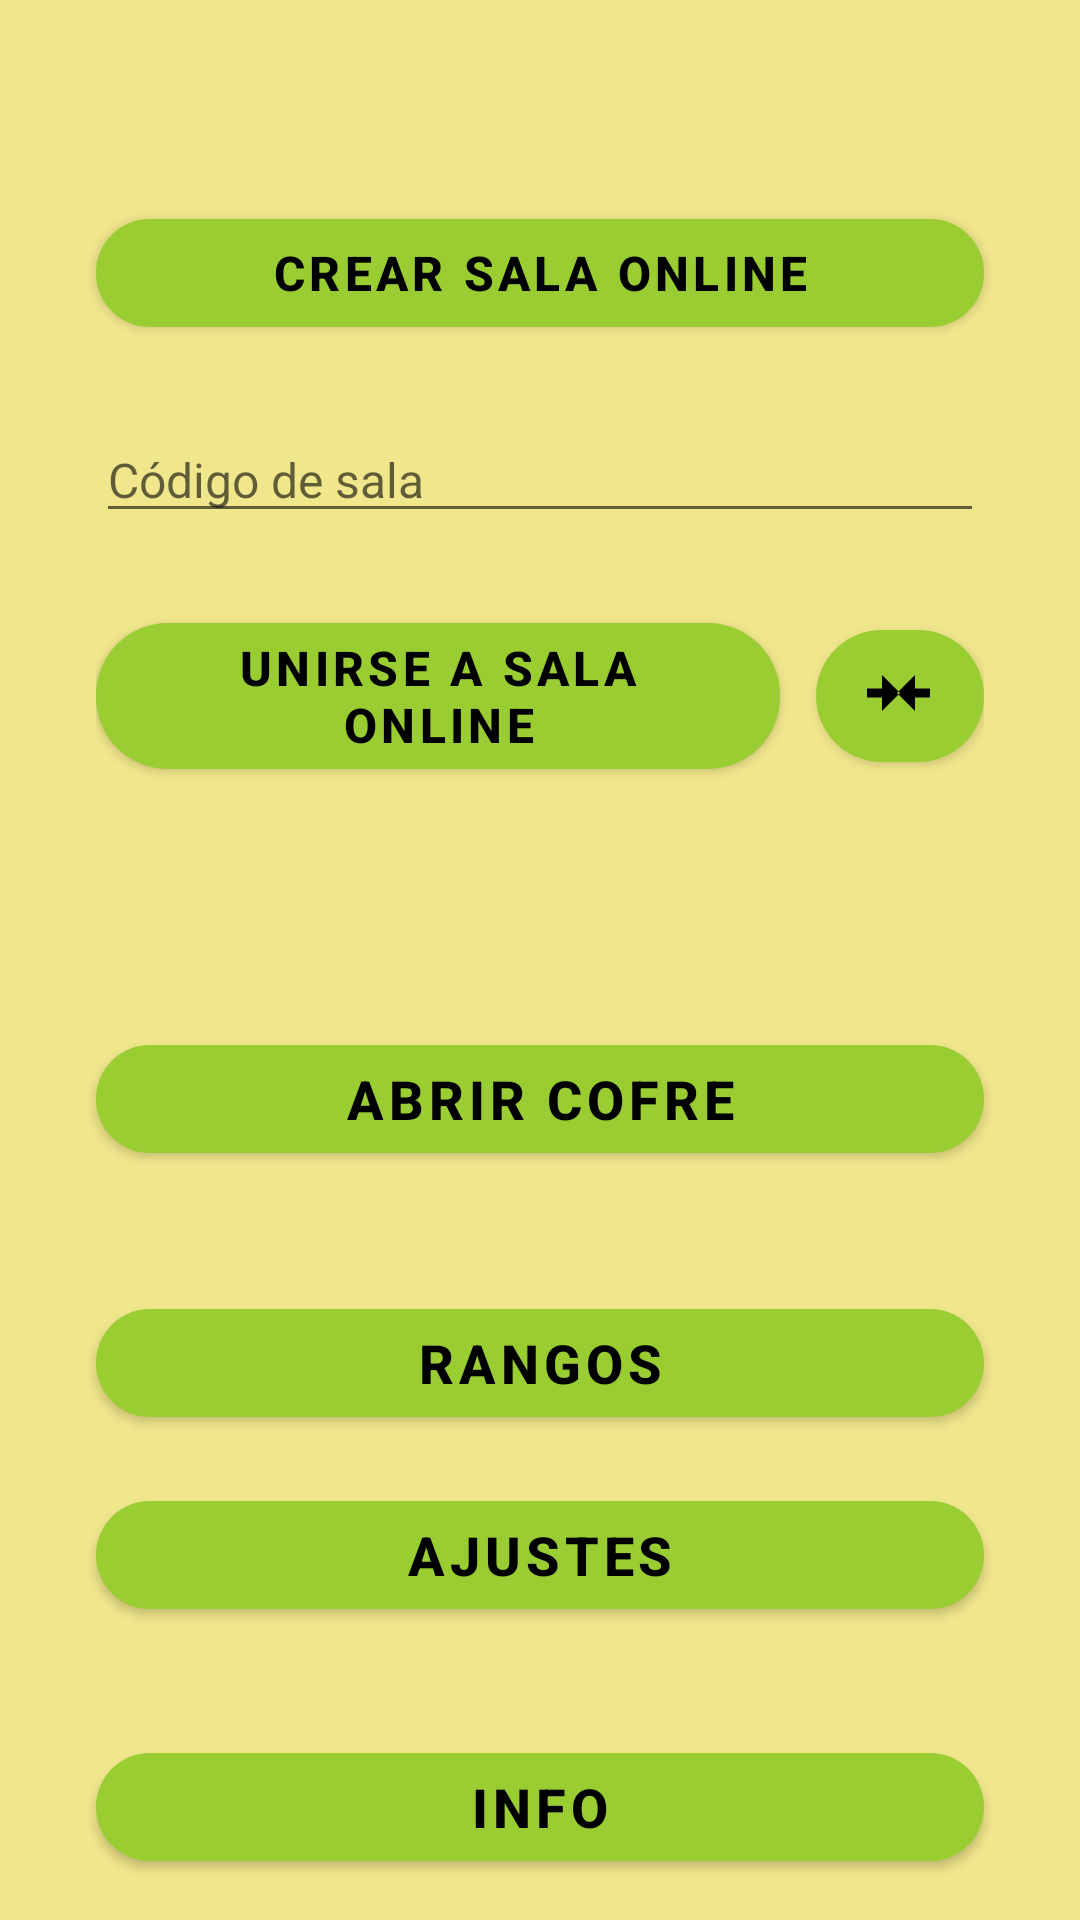

Icon click points for this 1080*1920 phone screenshot, format point (x, y):
Competir por Bluetooth: point (900, 696)
